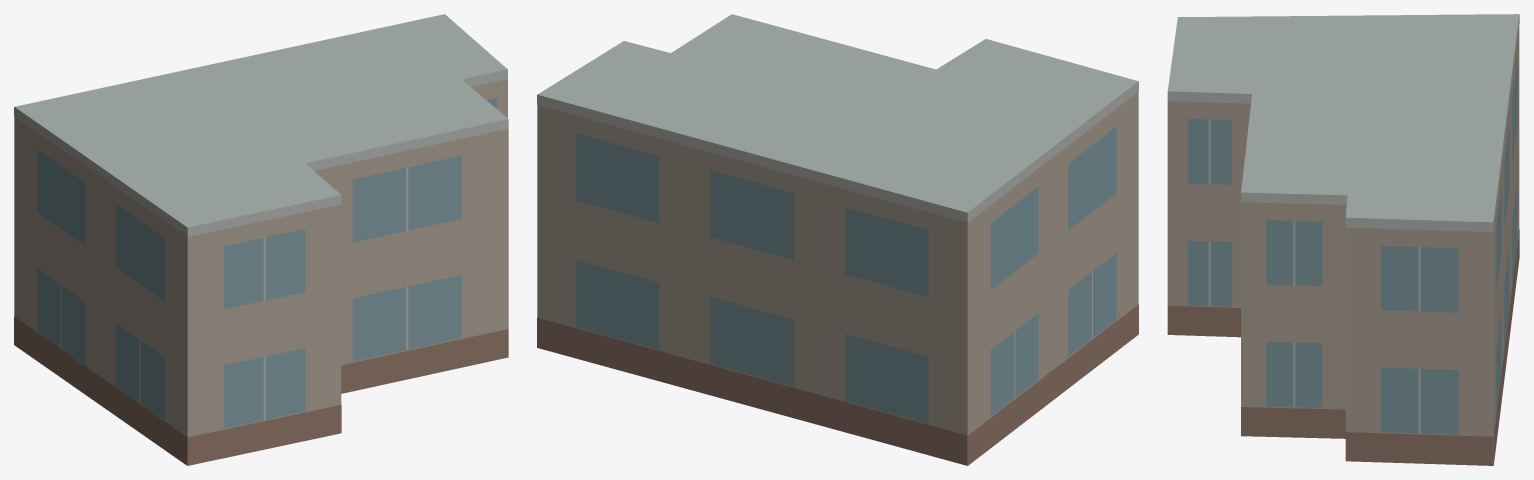
File: survey-upis-32599734.glb
3 views of the same model, side by side, from view 1: azimuth 30°, elevation 25°; view 2: azimuth 150°, elevation 25°; view 3: azimuth 270°, elevation 25° (orthographic). The views are drawn at different scales.
Visible parts, largest first — view 1: survey-upis-32599734.tmp; view 2: survey-upis-32599734.tmp; view 3: survey-upis-32599734.tmp.
Part boxes in pixels (box(x1,y1,x2,y2)): survey-upis-32599734.tmp: box(14, 14, 508, 465); survey-upis-32599734.tmp: box(537, 14, 1138, 465); survey-upis-32599734.tmp: box(1167, 14, 1519, 465).
Size of the model in its own units: 11.21 by 6.1 by 8.
